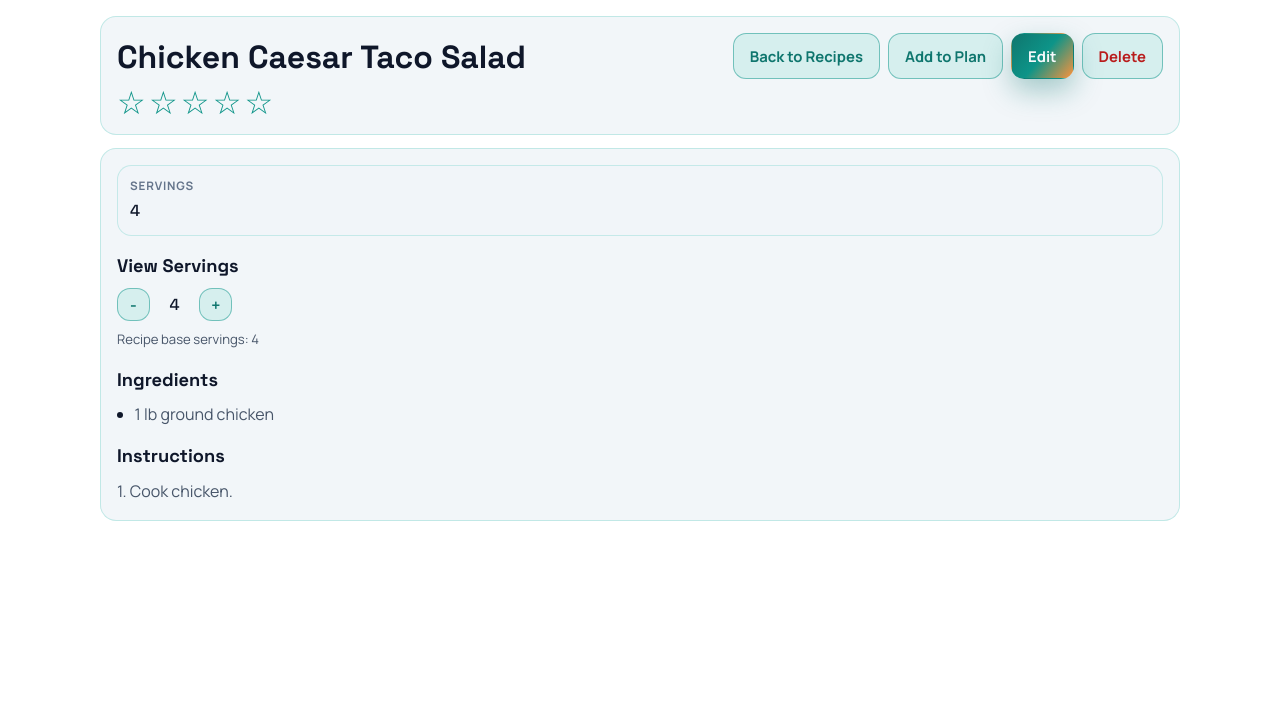
it: RecipeDetailPage › shows an error message when deleting fails
Expected: the heading "Chicken Caesar Taco Salad" is shown, top-left (117, 33), bottom-right (526, 81)
Click the button "Delete": [1122, 56] box top-left (1082, 33), bottom-right (1163, 79)
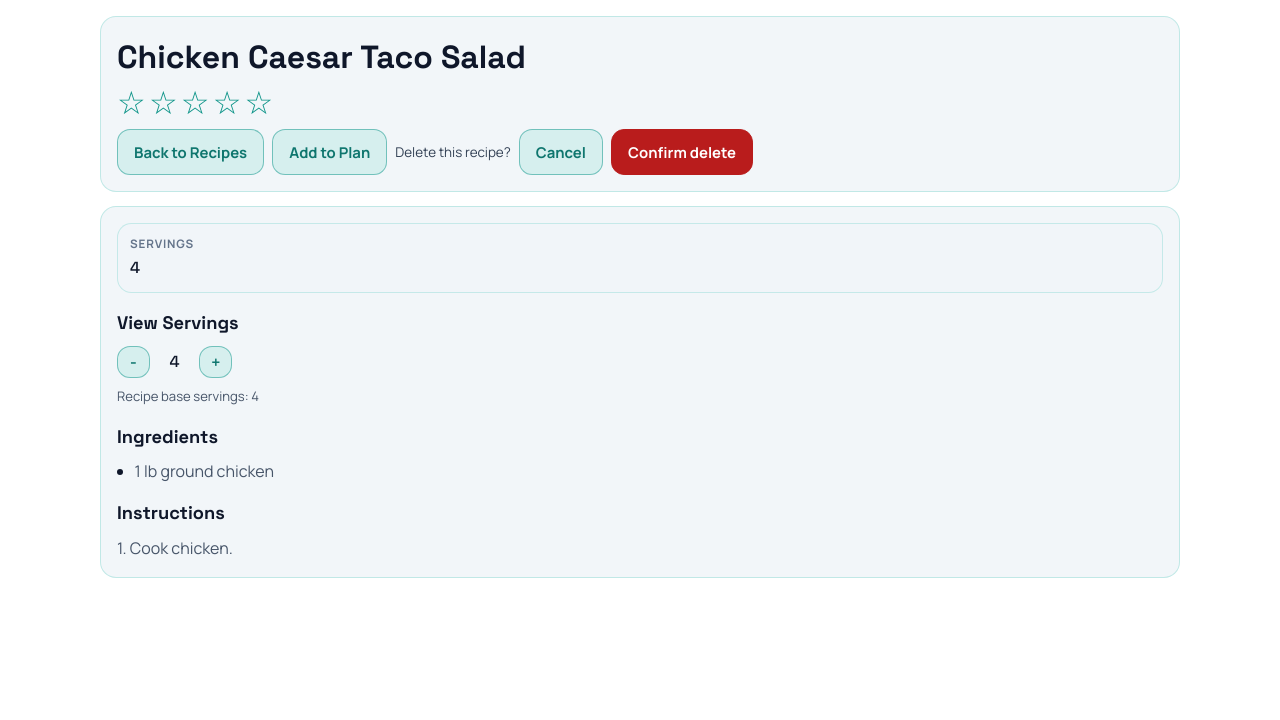
Click the button "Confirm delete": [682, 152] box top-left (611, 129), bottom-right (753, 175)
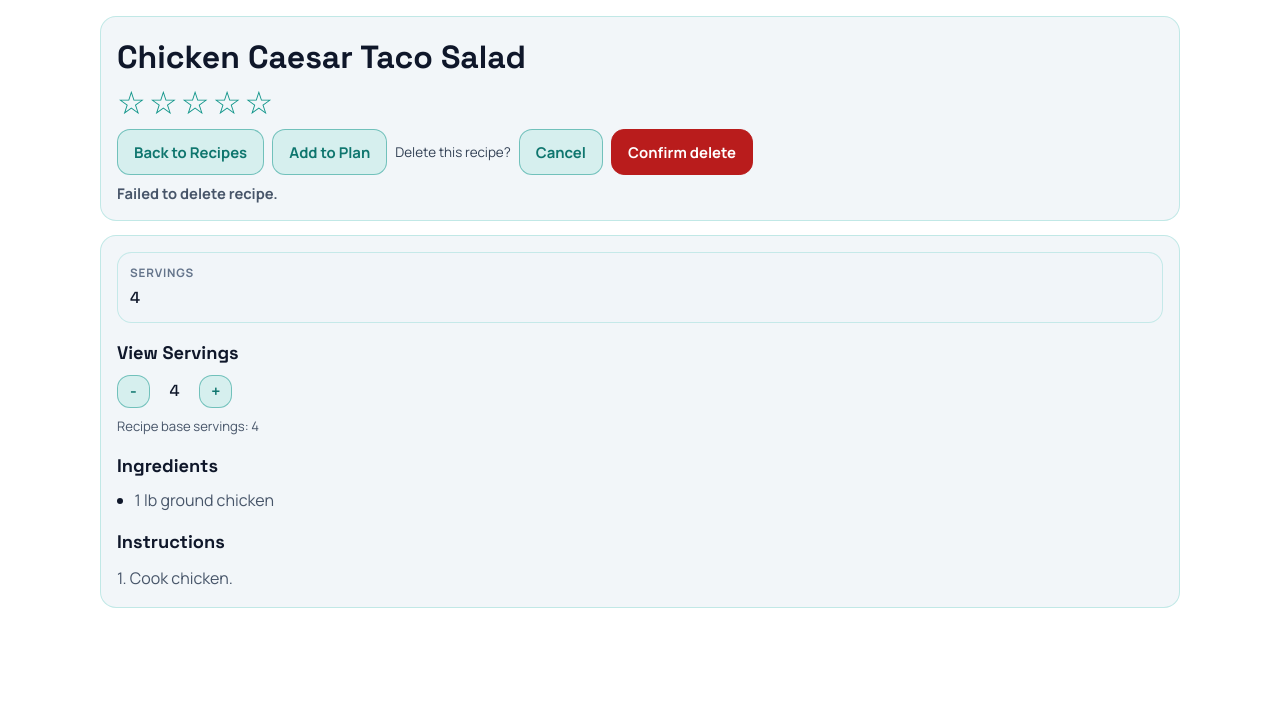
Expected: the text "Failed to delete recipe." is shown, top-left (117, 183), bottom-right (278, 203)
